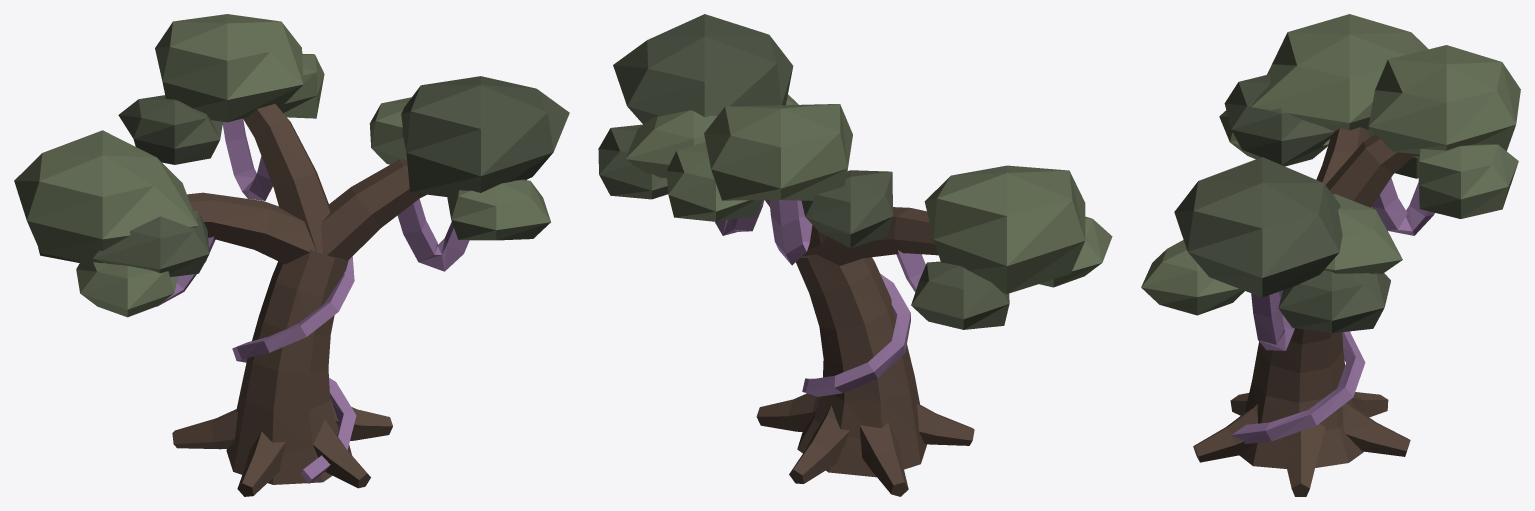
File: tree_polux_a.obj
3 views of the same model, side by side, from view 1: azimuth 30°, elevation 25°; view 2: azimuth 150°, elevation 25°; view 3: azimuth 270°, elevation 25° (orthographic). The views are drawn at different scales.
Parts seen in each view (by area): view 1: tree_polux_a_13, tree_polux_a_5, tree_polux_a_8, tree_polux_a_18, tree_polux_a_17, tree_polux_a_7, tree_polux_a_12, tree_polux_a_19, tree_polux_a_16, tree_polux_a_9, tree_polux_a_10, tree_polux_a_6 (+8 smaller); view 2: tree_polux_a_8, tree_polux_a_5, tree_polux_a_13, tree_polux_a_18, tree_polux_a_19, tree_polux_a_11, tree_polux_a_20, tree_polux_a_14, tree_polux_a_7, tree_polux_a_15, tree_polux_a_6, tree_polux_a_2 (+7 smaller); view 3: tree_polux_a_13, tree_polux_a_18, tree_polux_a_8, tree_polux_a_5, tree_polux_a_20, tree_polux_a_15, tree_polux_a_9, tree_polux_a_16, tree_polux_a_14, tree_polux_a_6, tree_polux_a_17, tree_polux_a_0 (+7 smaller).
Boxes of the visible parts, x1,y1,x2,y2 form: tree_polux_a_13: (401, 76, 569, 197); tree_polux_a_5: (226, 250, 351, 484); tree_polux_a_8: (14, 130, 198, 264); tree_polux_a_18: (155, 14, 303, 122); tree_polux_a_17: (243, 104, 330, 251); tree_polux_a_7: (187, 192, 322, 264); tree_polux_a_12: (321, 159, 426, 260); tree_polux_a_19: (118, 95, 222, 164); tree_polux_a_16: (447, 179, 550, 240); tree_polux_a_9: (92, 210, 209, 276); tree_polux_a_10: (76, 262, 178, 317); tree_polux_a_6: (232, 256, 356, 483); tree_polux_a_8: (924, 165, 1085, 293); tree_polux_a_5: (796, 254, 926, 477); tree_polux_a_13: (613, 14, 793, 124); tree_polux_a_18: (704, 104, 852, 200); tree_polux_a_19: (801, 170, 892, 248); tree_polux_a_11: (911, 261, 1009, 329); tree_polux_a_20: (666, 142, 762, 221); tree_polux_a_14: (625, 110, 717, 178); tree_polux_a_7: (804, 207, 938, 265); tree_polux_a_15: (598, 124, 668, 199); tree_polux_a_6: (802, 273, 910, 396); tree_polux_a_2: (859, 422, 908, 496); tree_polux_a_13: (1174, 157, 1342, 297); tree_polux_a_18: (1368, 45, 1520, 154); tree_polux_a_8: (1251, 14, 1428, 137); tree_polux_a_5: (1239, 328, 1363, 468); tree_polux_a_20: (1418, 144, 1518, 218); tree_polux_a_15: (1278, 270, 1390, 333); tree_polux_a_9: (1224, 74, 1334, 164); tree_polux_a_16: (1141, 240, 1244, 315); tree_polux_a_14: (1324, 194, 1402, 274); tree_polux_a_6: (1232, 331, 1365, 444); tree_polux_a_17: (1325, 134, 1415, 207); tree_polux_a_0: (1279, 423, 1325, 496).
Size of the model in its own units: 1.22 by 0.889 by 0.7834.
